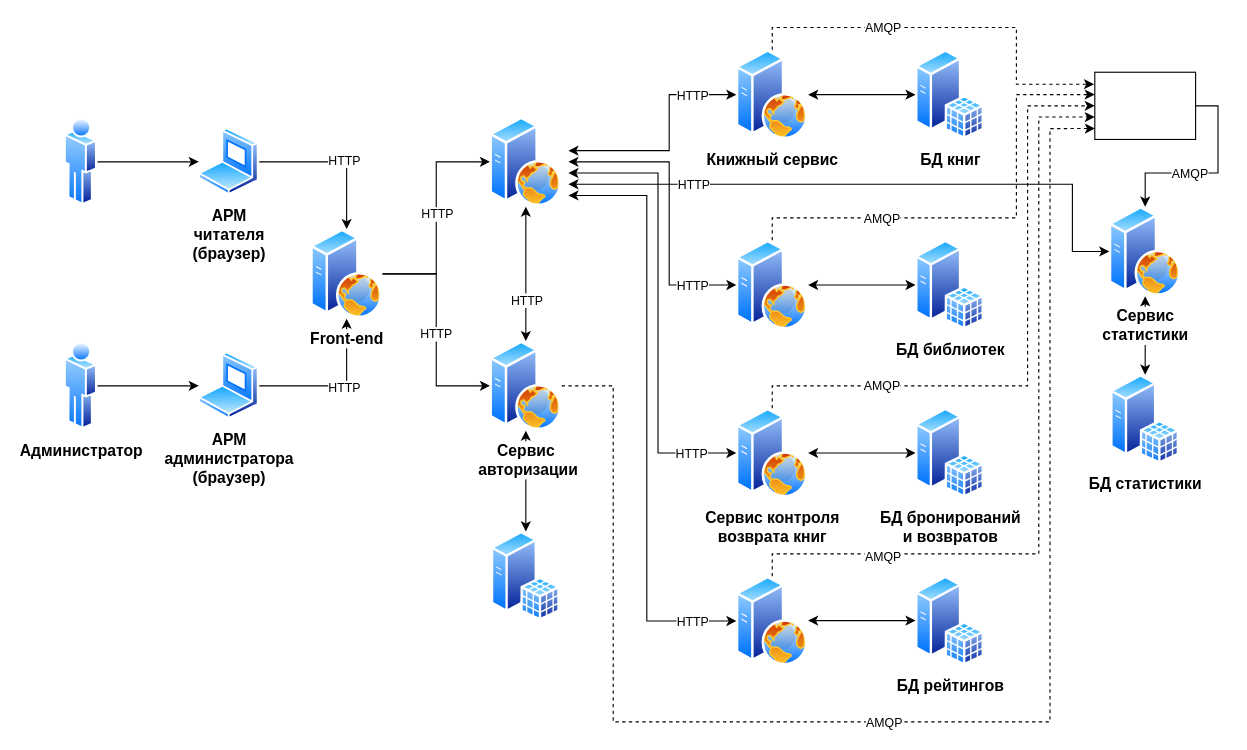
Some shapes in this 1247 by 750 pixel diagram are drawn without their labels. Each missing label, with the centre of its shape:
БД пользователей: [525,575]
Библиотечный сервис: [772,284]
Очередь: [1145,105]
Сервис маршрутизации запросов: [525,161]
Сервис формирования читательского рейтинга: [772,620]
Читатель: [80,161]
